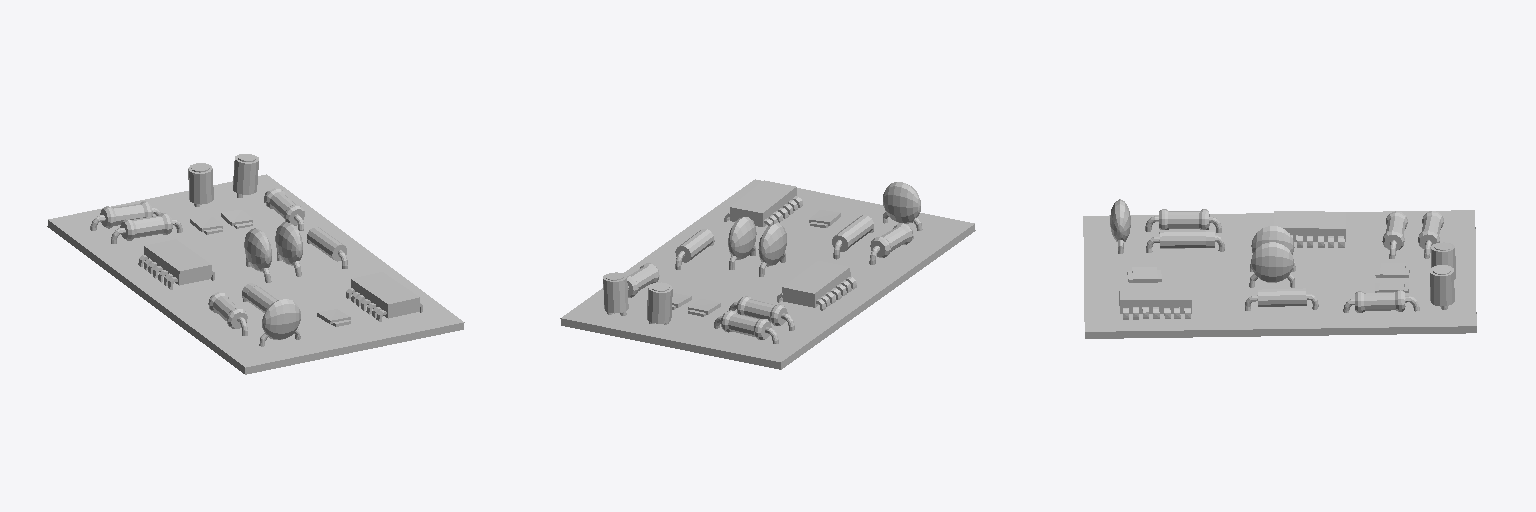
3 renders of one model, left to right at view 1: azimuth 30°, elevation 25°; view 2: azimuth 150°, elevation 25°; view 3: azimuth 270°, elevation 25°, orthographic.
Visible parts, largest first — view 1: group[number redacted], group[number redacted], group[number redacted], group[number redacted], group[number redacted], group[number redacted], group[number redacted], group[number redacted], group[number redacted], group[number redacted], group[number redacted], group[number redacted] (+2 smaller); view 2: group[number redacted], group[number redacted], group[number redacted], group[number redacted], group[number redacted], group[number redacted], group[number redacted], group[number redacted], group[number redacted], group[number redacted], group[number redacted], group[number redacted] (+2 smaller); view 3: group[number redacted], group[number redacted], group[number redacted], group[number redacted], group[number redacted], group[number redacted], group[number redacted], group[number redacted], group[number redacted], group[number redacted], group[number redacted], group[number redacted] (+2 smaller).
Boxes of the visible parts, x1,y1,x2,y2 form: group[number redacted]: [47, 174, 464, 374]; group[number redacted]: [346, 272, 422, 321]; group[number redacted]: [138, 239, 214, 289]; group[number redacted]: [259, 299, 300, 346]; group[number redacted]: [111, 213, 182, 243]; group[number redacted]: [275, 222, 302, 276]; group[number redacted]: [244, 228, 271, 282]; group[number redacted]: [90, 201, 160, 230]; group[number redacted]: [188, 163, 213, 206]; group[number redacted]: [233, 154, 258, 197]; group[number redacted]: [264, 188, 304, 230]; group[number redacted]: [208, 292, 247, 335]; group[number redacted]: [560, 179, 975, 369]; group[number redacted]: [777, 261, 856, 310]; group[number redacted]: [724, 180, 802, 226]; group[number redacted]: [883, 182, 922, 230]; group[number redacted]: [714, 310, 778, 343]; group[number redacted]: [728, 217, 756, 269]; group[number redacted]: [758, 223, 786, 276]; group[number redacted]: [729, 296, 794, 330]; group[number redacted]: [647, 282, 672, 324]; group[number redacted]: [603, 272, 628, 315]; group[number redacted]: [869, 223, 913, 264]; group[number redacted]: [832, 215, 873, 259]; group[number redacted]: [1083, 210, 1476, 338]; group[number redacted]: [1119, 283, 1191, 319]; group[number redacted]: [1274, 211, 1345, 247]; group[number redacted]: [1249, 242, 1294, 287]; group[number redacted]: [1146, 230, 1224, 252]; group[number redacted]: [1343, 290, 1419, 312]; group[number redacted]: [1145, 209, 1221, 232]; group[number redacted]: [1245, 288, 1318, 310]; group[number redacted]: [1430, 265, 1454, 309]; group[number redacted]: [1382, 211, 1407, 258]; group[number redacted]: [1110, 199, 1130, 253]; group[number redacted]: [1418, 211, 1443, 258].
Bounding box in the file's own units: 0.9195 × 0.2308 × 1.41.